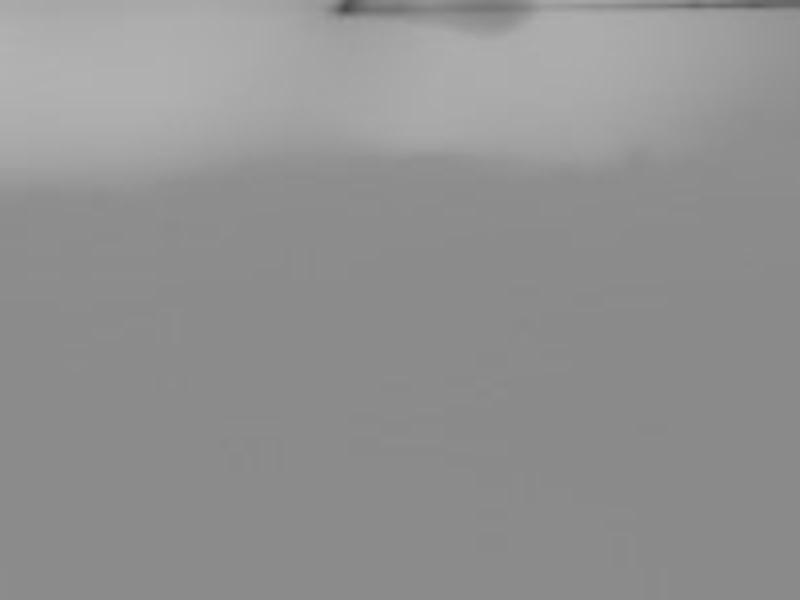defect: (335, 1, 360, 18)
